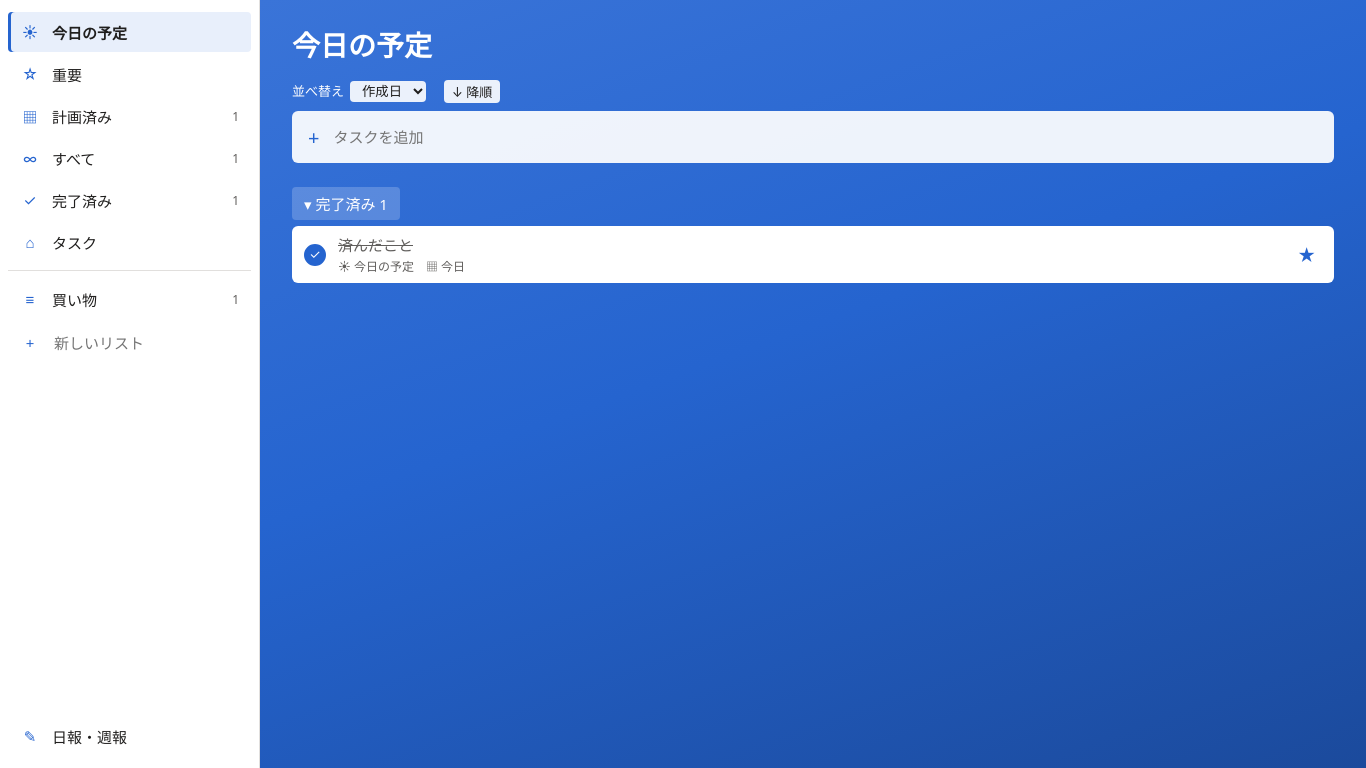
Test case: App › 正常系: 完了と重要を切り替えられる
Click the button named "重要を外す" at (1307, 254), box 1291,242 -> 1322,268
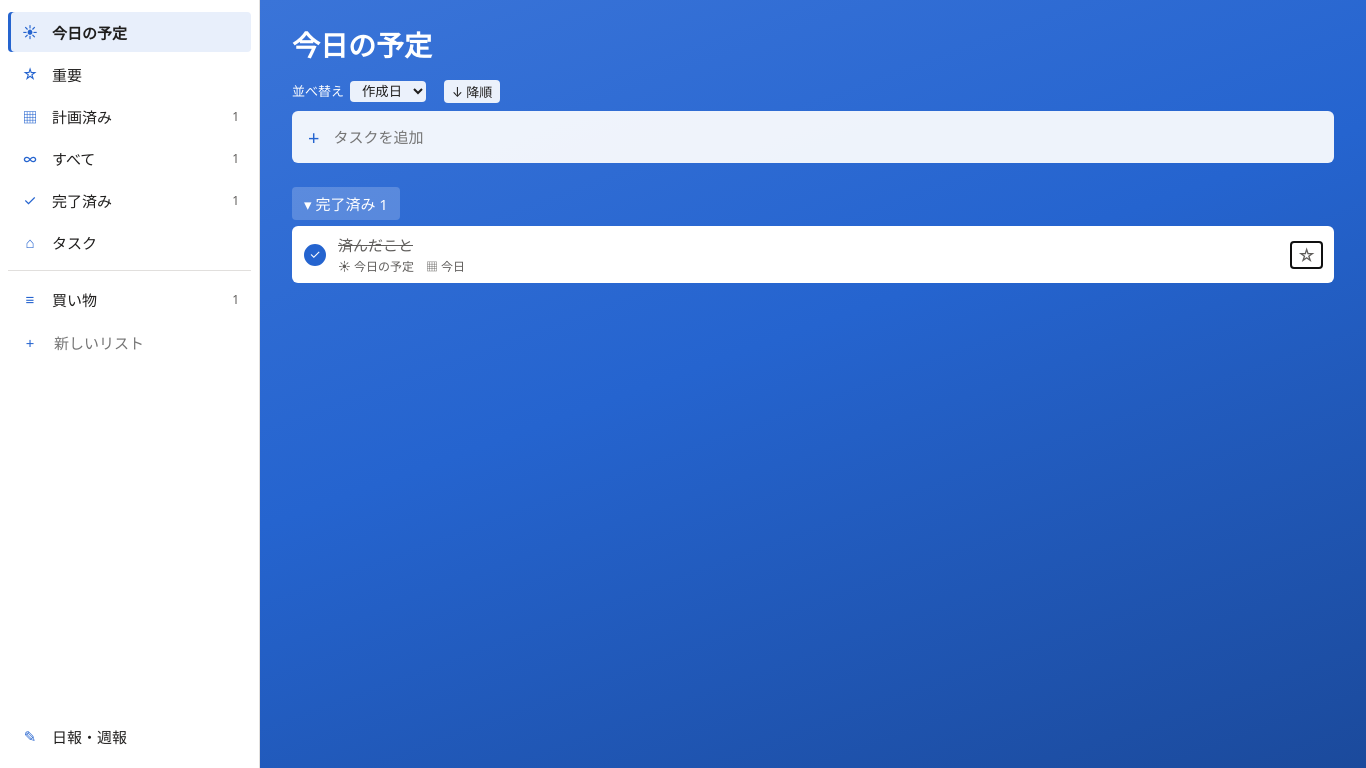
Result: the button named "重要にする" is shown at 1291,242 -> 1322,268
Click the button named "未完了に戻す" at (315, 254), box 304,244 -> 326,266
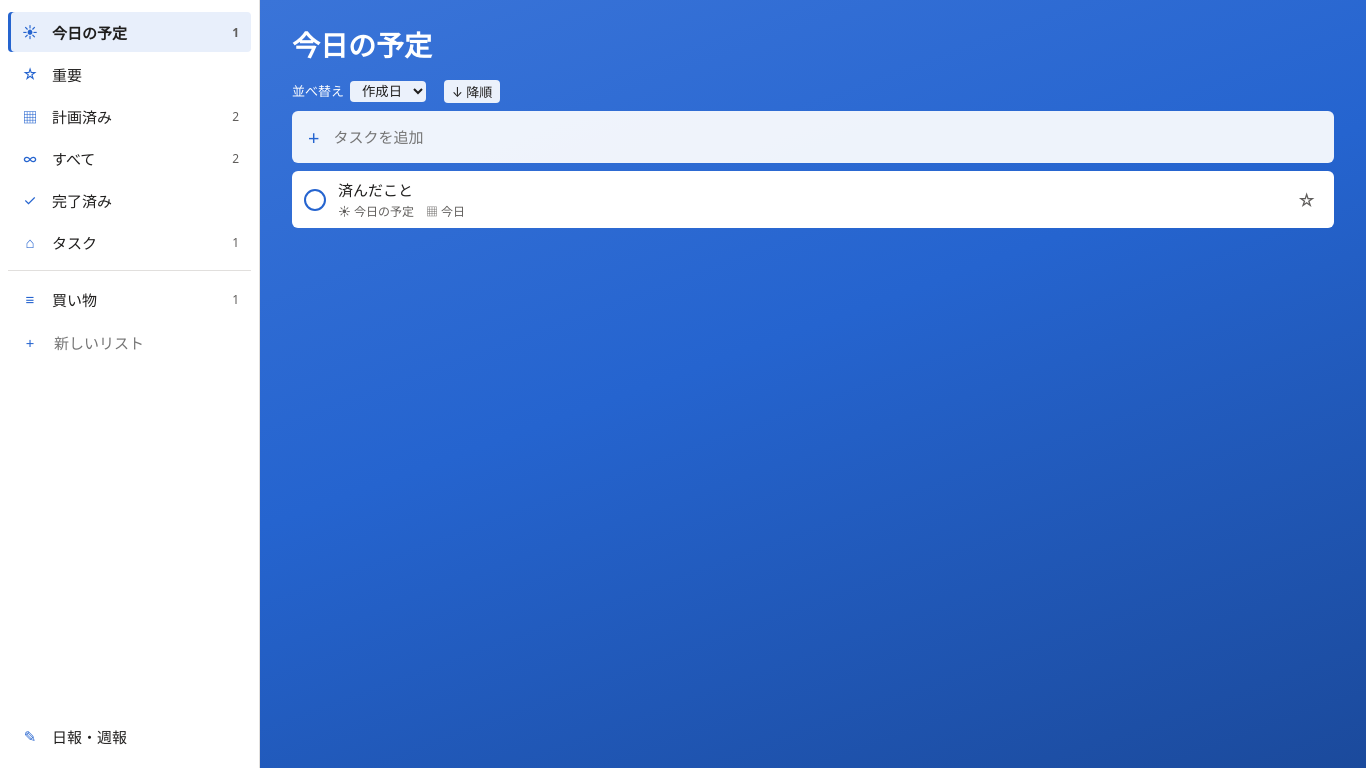
Expected: the text "済んだこと" is shown, 338,179 -> 413,200
Click the button named "完了にする" at (315, 200), box 304,188 -> 326,210
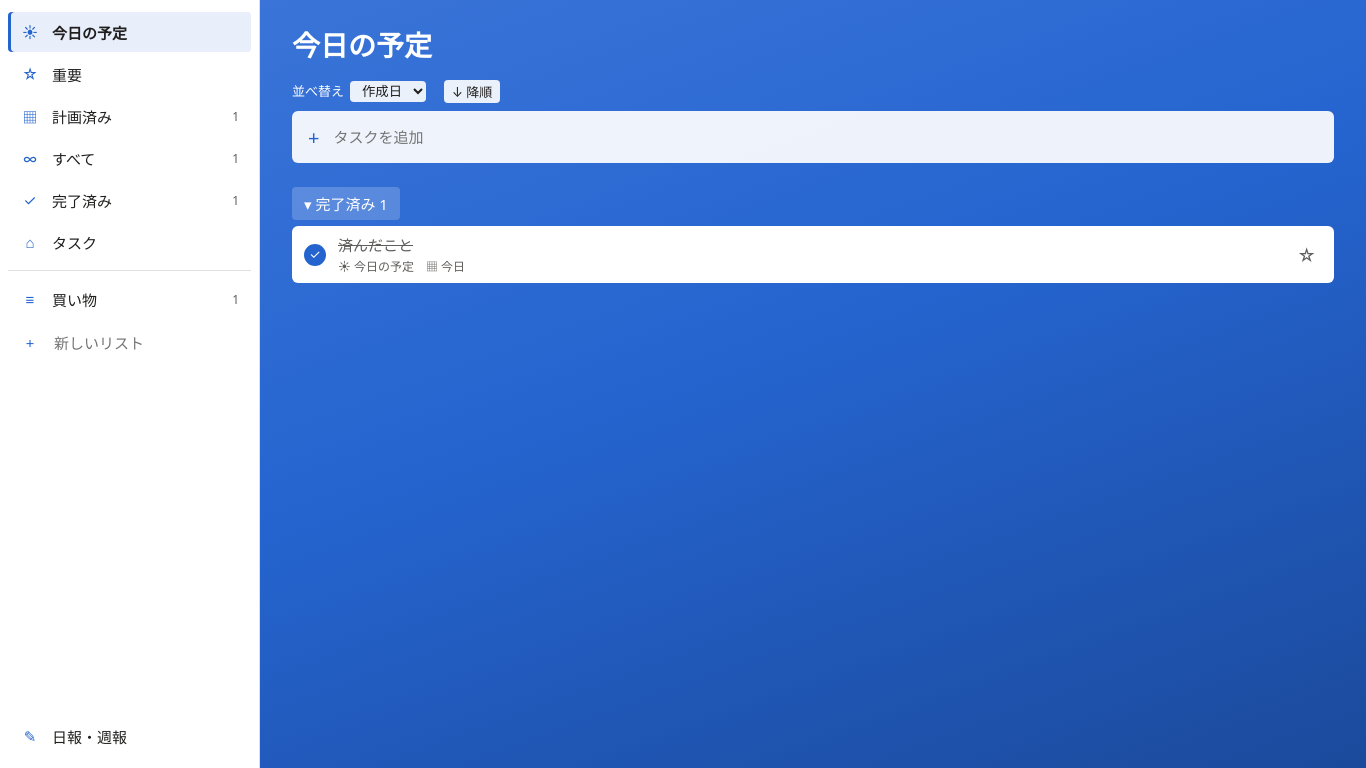
Result: the button "▾ 完了済み 1" is shown at 292,187 -> 400,220
